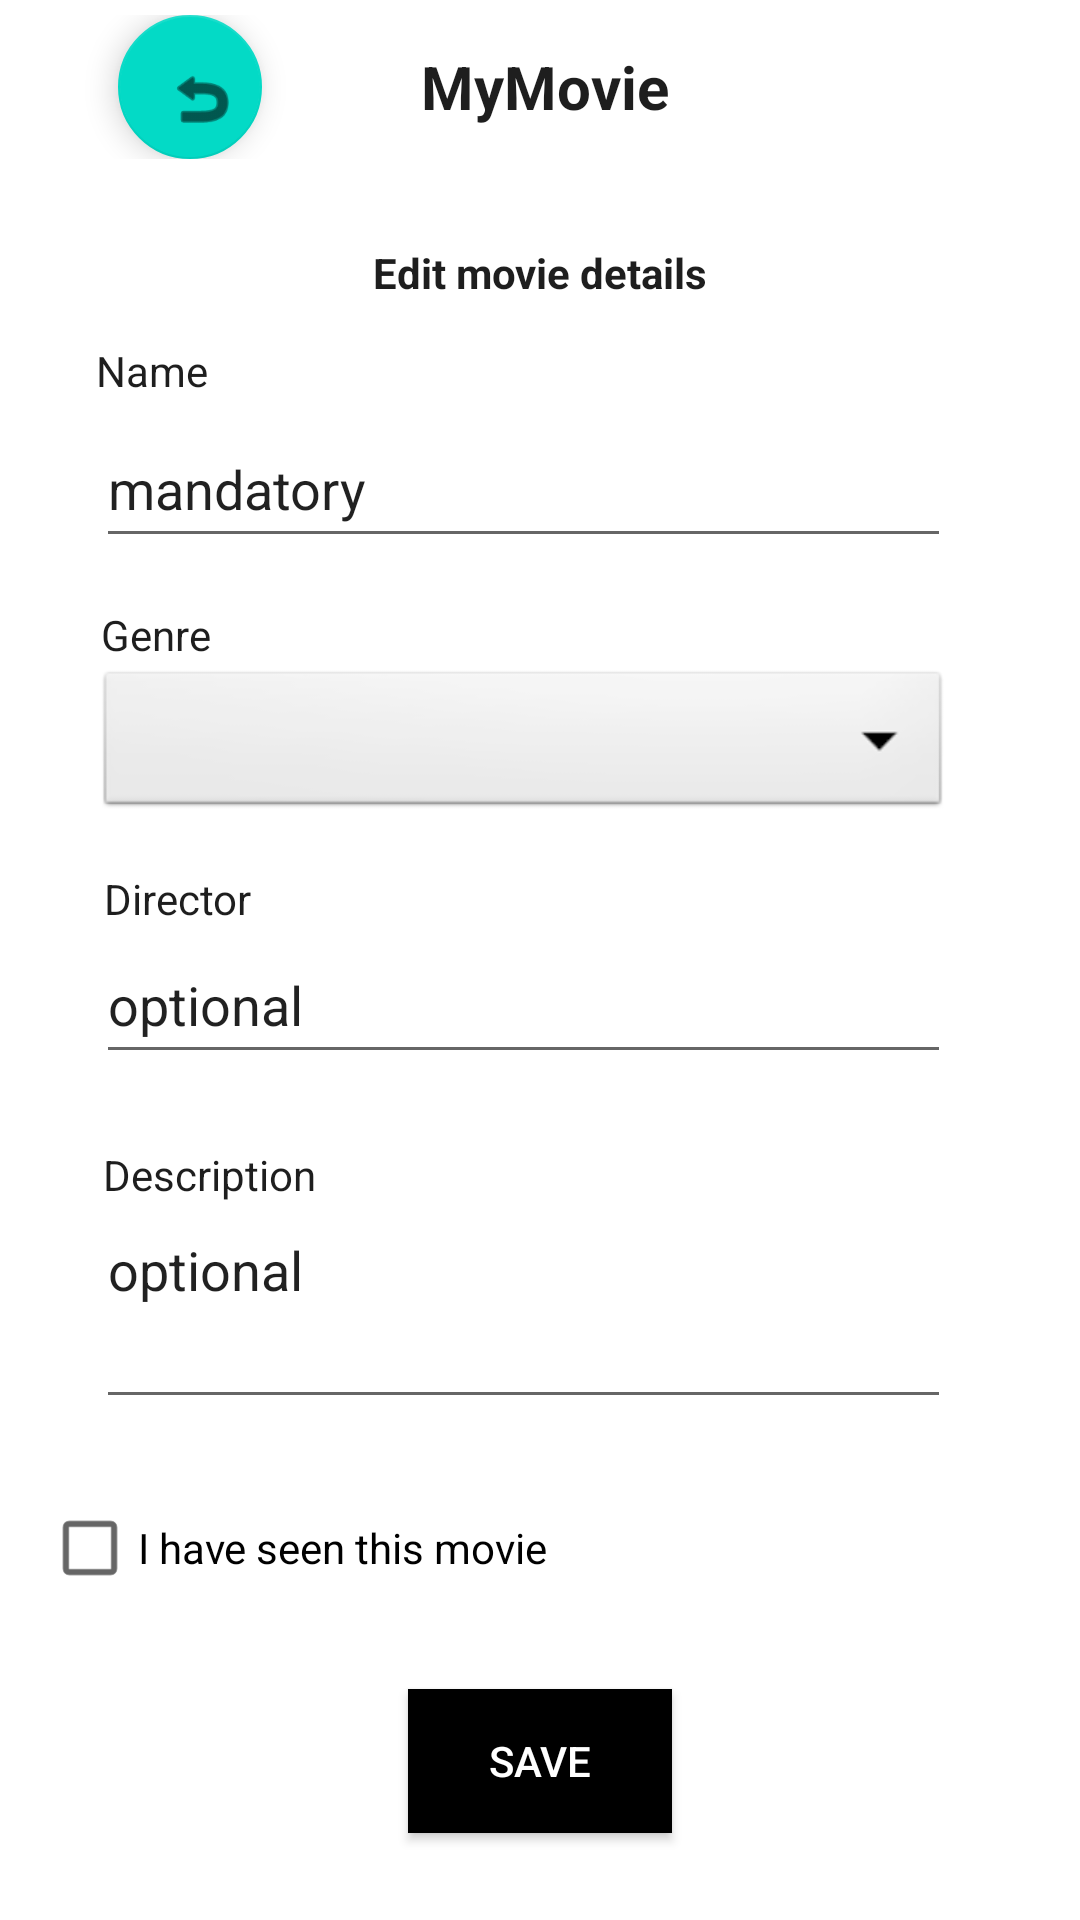

Screen size 1080px x 1920px. Icon name, then its box in pixels as bbox=(x1, y1, x2, y2):
Go Back: bbox=(118, 15, 262, 159)
